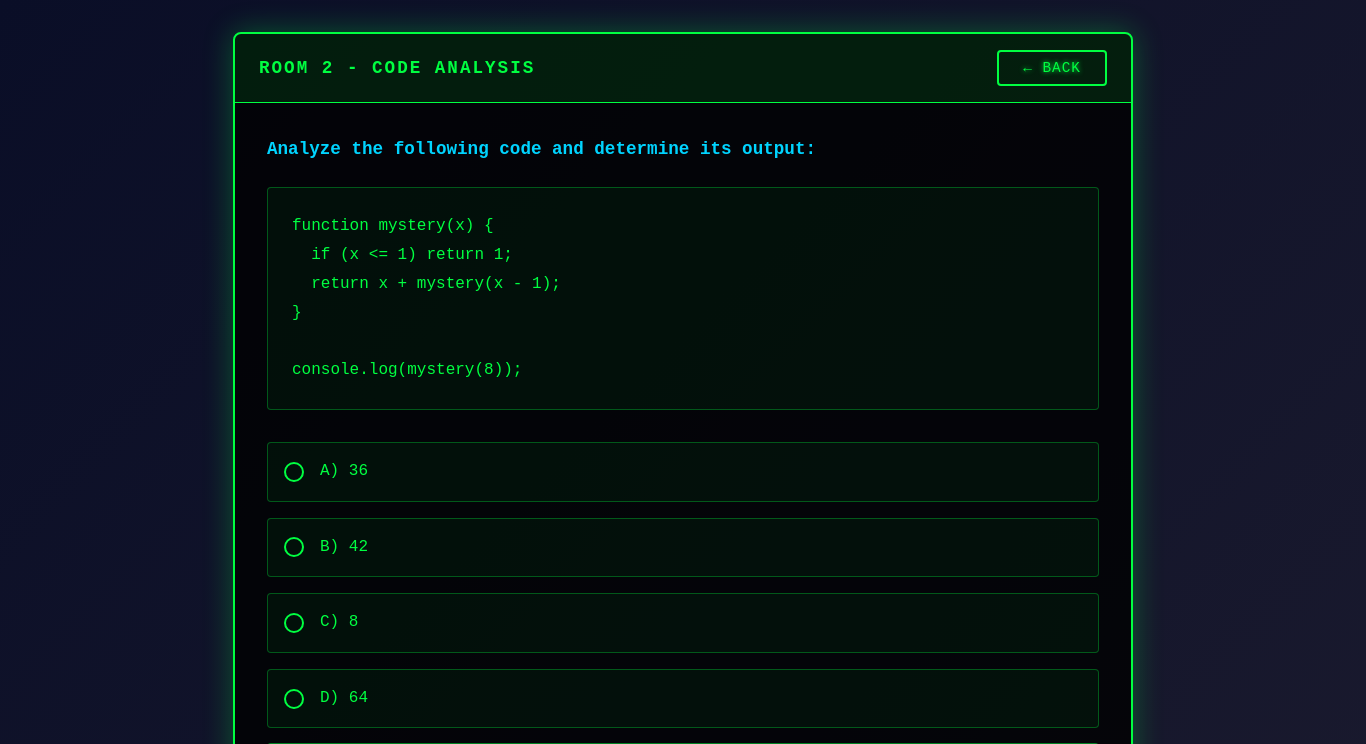
it: Room2 - Programming Puzzle › validates correct answer and stores fragment
The width and height of the screenshot is (1366, 744).
Note: Select the correct answer (42)
Click the radio button labelled "B) 42" at [294, 547], box [284, 537, 304, 557]
(page scrolled)
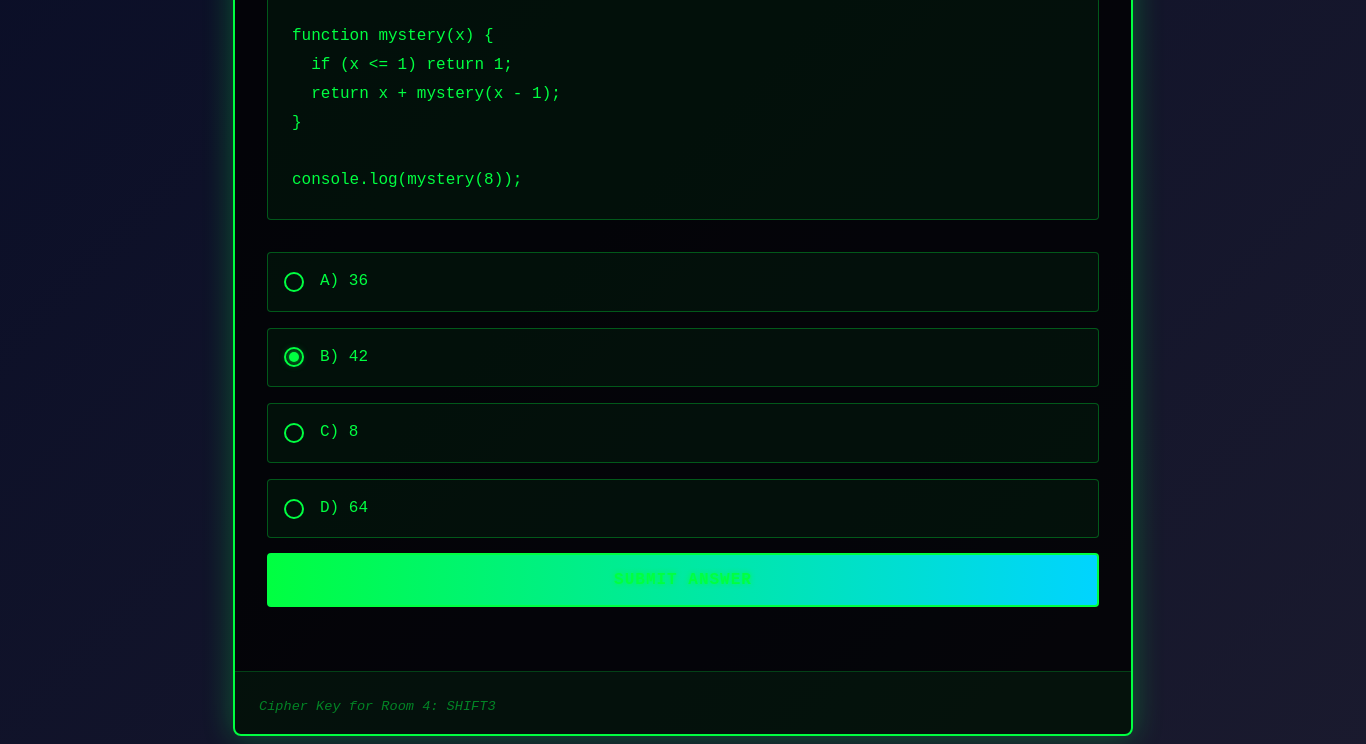
Note: Submit the form
Click the button "SUBMIT ANSWER" at [683, 580], box [267, 553, 1099, 607]
(page scrolled)
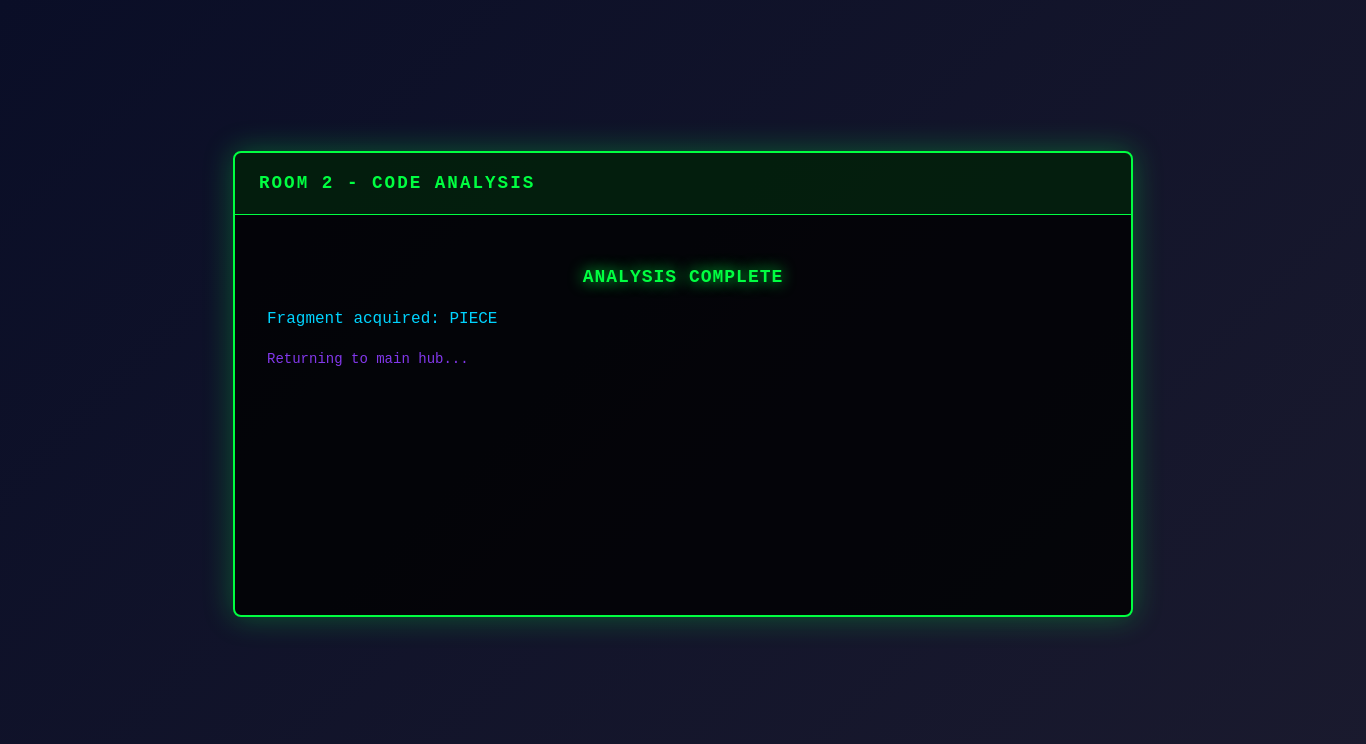
expect the text "ANALYSIS COMPLETE" is shown: met, box [583, 267, 783, 287]
expect the text "Fragment acquired: PIECE" is shown: met, box [267, 310, 497, 328]
